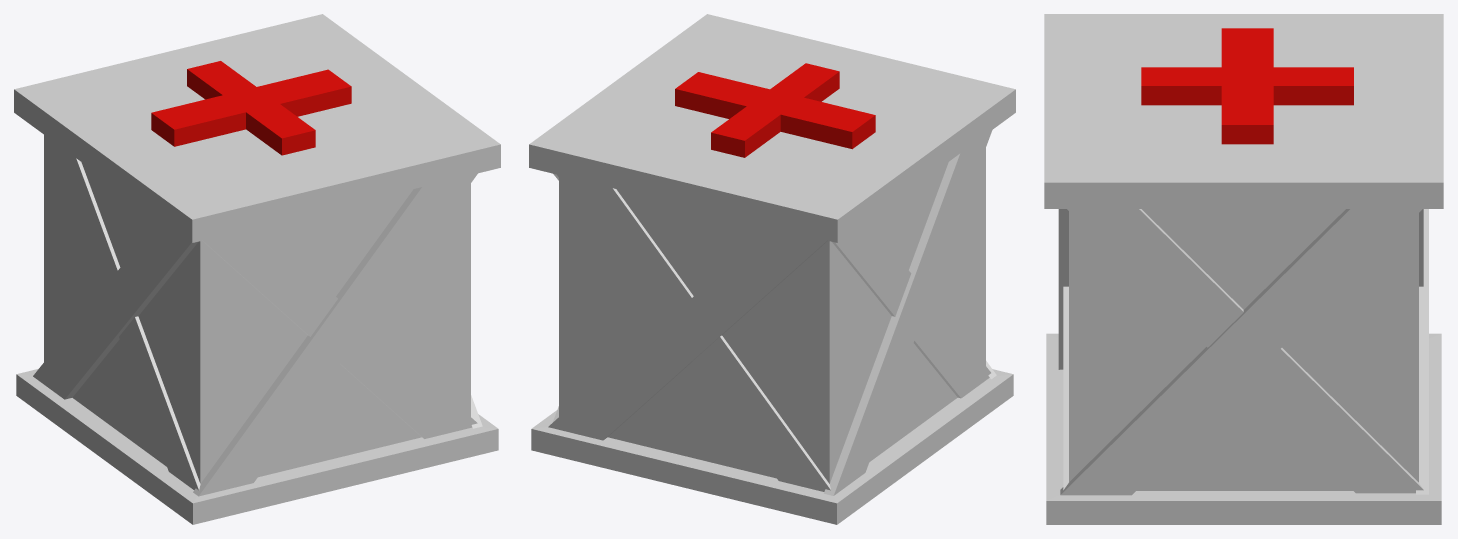
Rendered from CaixasMedicas.fbx.
3 renders of one model, left to right at view 1: azimuth 30°, elevation 25°; view 2: azimuth 150°, elevation 25°; view 3: azimuth 270°, elevation 25°, orthographic. The views are drawn at different scales.
Visible parts, largest first — view 1: Caixa2; view 2: Caixa2; view 3: Caixa2.
Part boxes in pixels (x1,y1,x2,y2): Caixa2: [14, 14, 500, 524]; Caixa2: [529, 14, 1015, 524]; Caixa2: [1044, 14, 1443, 524].
Size of the model in its own units: 209 by 209 by 209.
